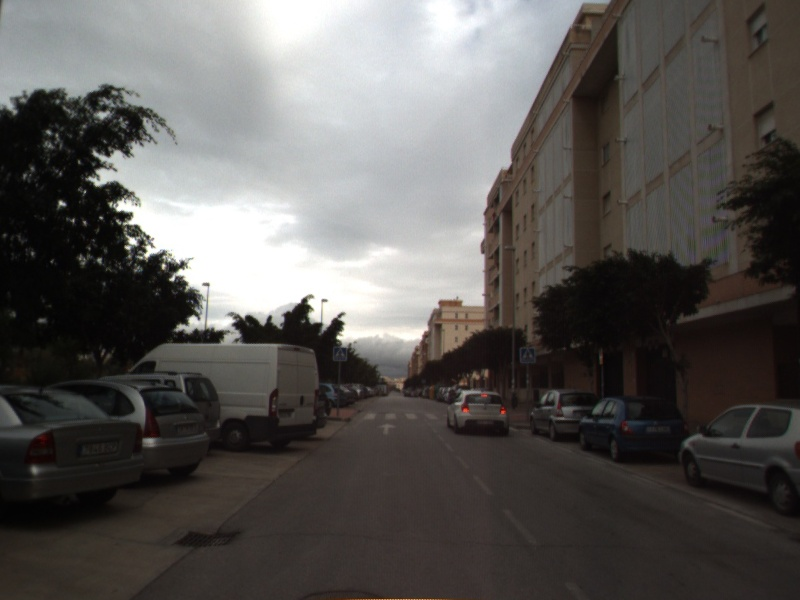STRAIGHT: (375, 420, 399, 436)
